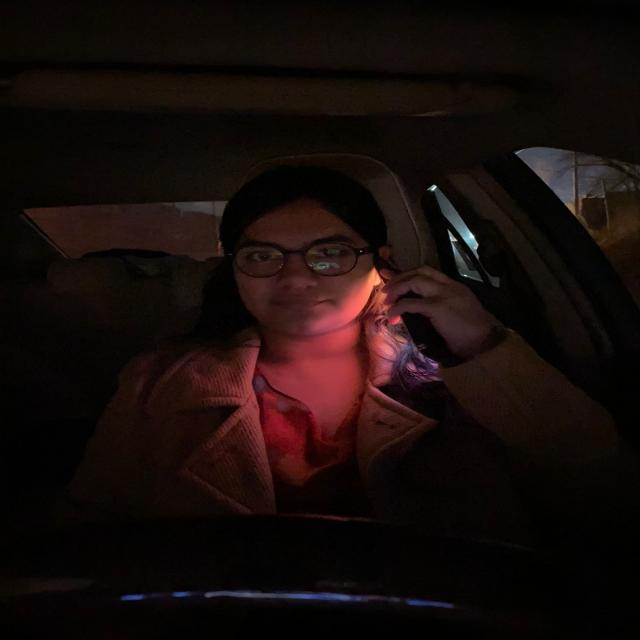mobile: (372, 256, 446, 354)
person: (228, 175, 373, 339)
